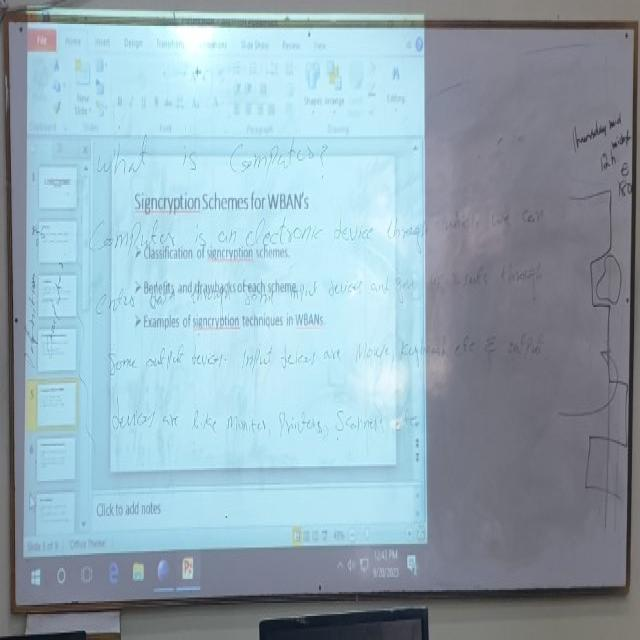Slide: (24, 4, 428, 602)
White-board: (4, 15, 635, 614)
